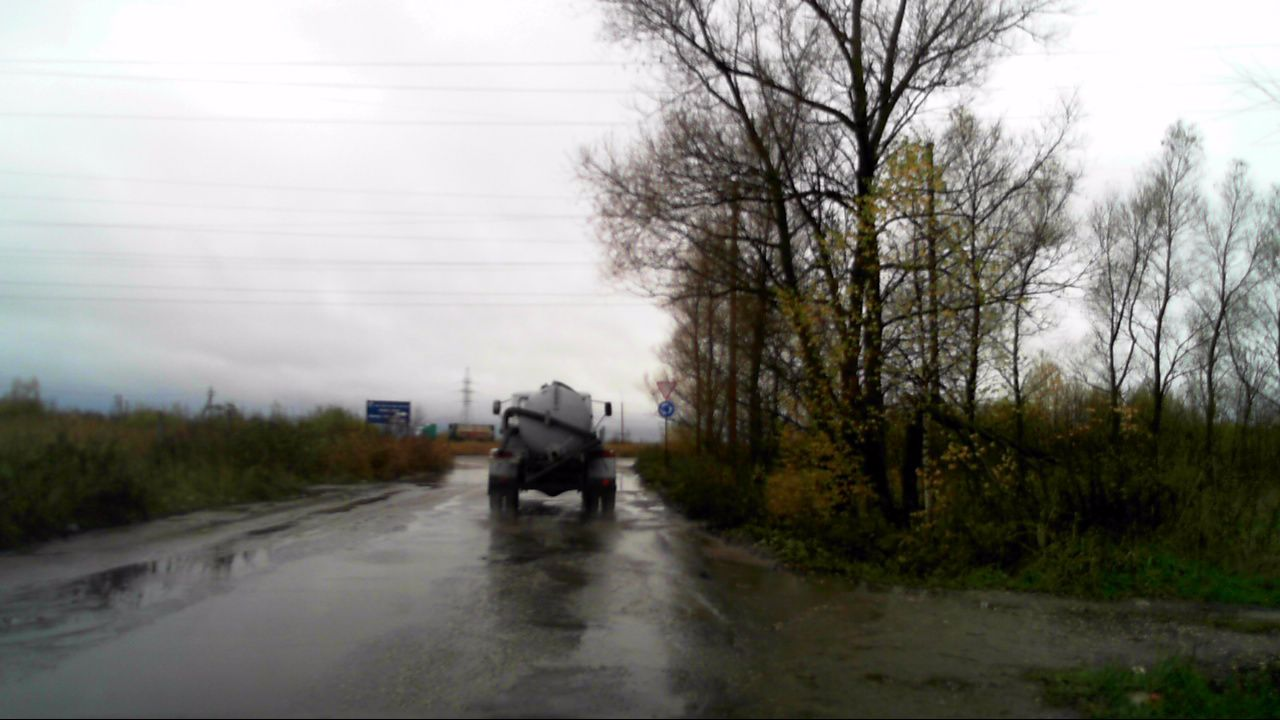Round-About: (655, 399, 677, 421)
